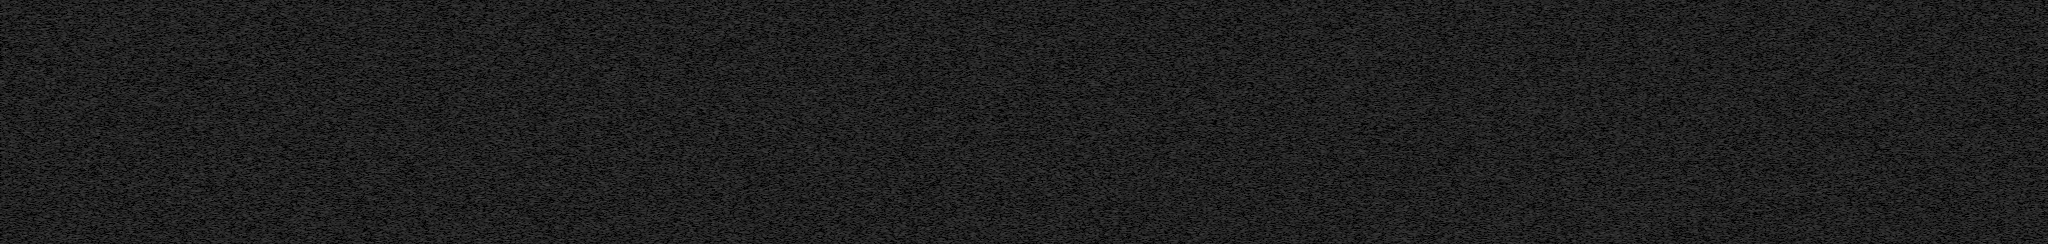wv_cw: (475, 0, 481, 243), (1622, 0, 1626, 243)
wv_wbfm: (1514, 0, 1535, 241), (1886, 0, 1904, 243), (1582, 0, 1600, 243)
